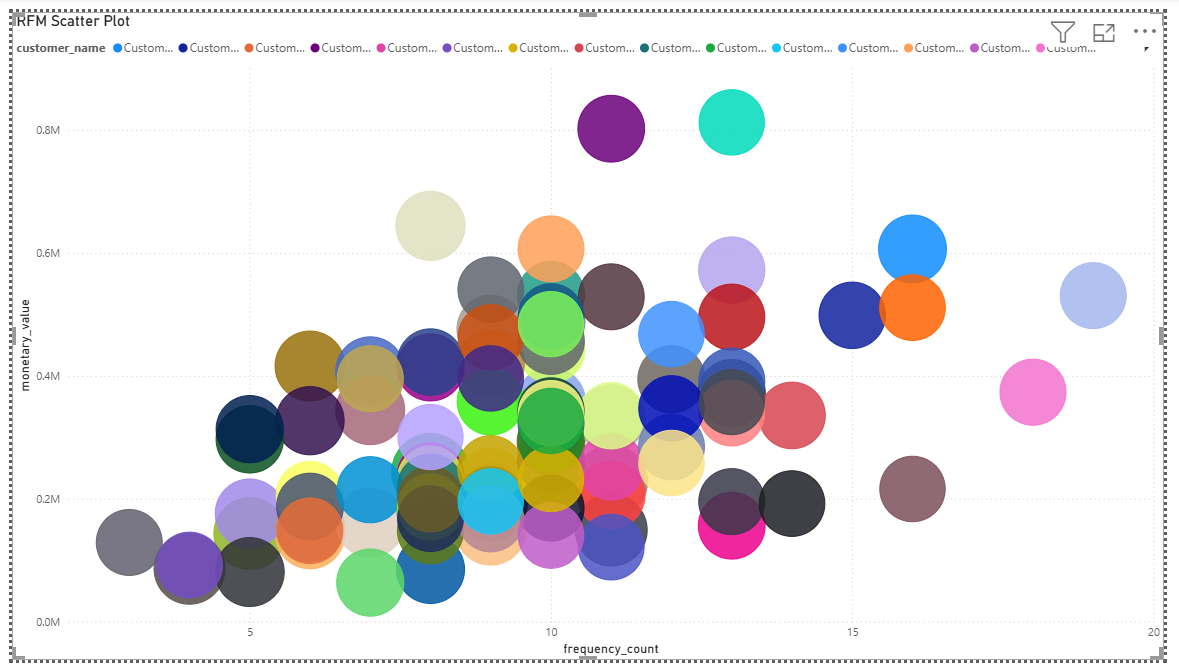

This screenshot's page, from the dashboard's own definition file:
{"tool":"powerbi","page":{"name":"RFM Analysis","canvas":[1280,720],"ordinal":1},"visuals":[{"type":"scatterChart","title":"RFM Scatter Plot","fields":{"X":["RFM ANALYSIS.frequency_count"],"Y":["RFM ANALYSIS.monetary_value"],"Size":["Sum(RFM ANALYSIS.recency_days)"],"Series":["RFM ANALYSIS.customer_name"]},"box":[0,0,1280,720],"z":0}]}

Visuals, with their boxes in screenshot pixels (x1, y1, x2, y2), scaled from the page's 1280x720 canvas onto the 1179x666 screenshot:
"RFM Scatter Plot" scatterChart: BBox(0, 0, 1178, 665)
